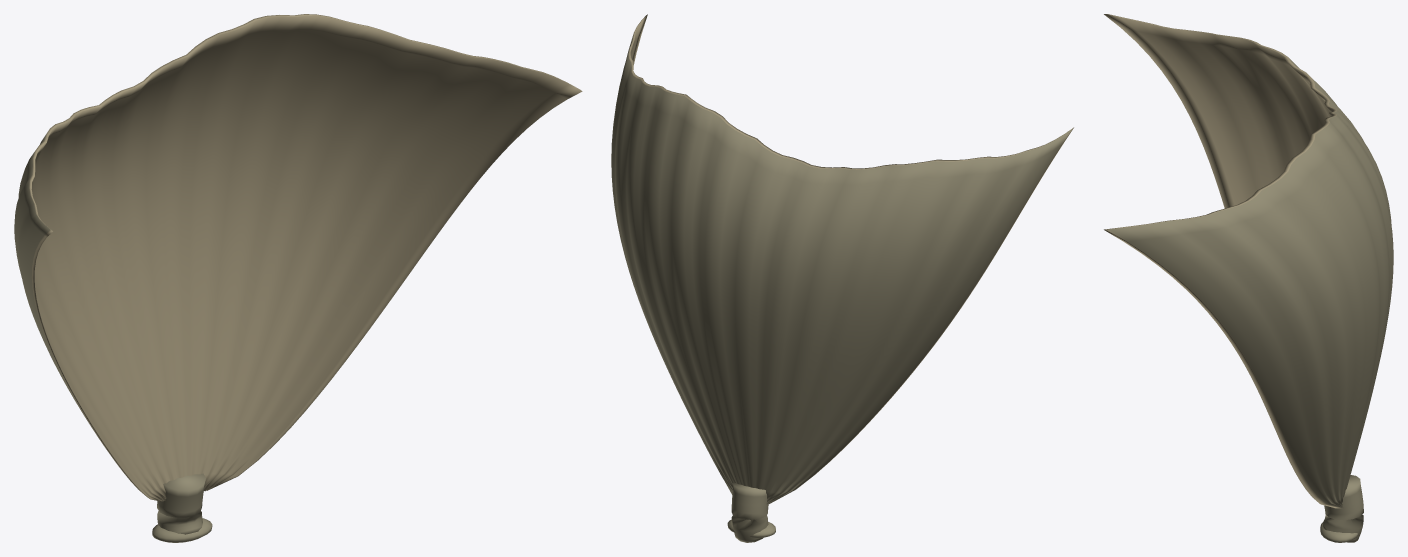
File: hazelia.glb
3 renders of one model, left to right at view 1: azimuth 30°, elevation 25°; view 2: azimuth 150°, elevation 25°; view 3: azimuth 270°, elevation 25°, orthographic. The views are drawn at different scales.
Visible parts, largest first — view 1: thin-cupped-shield-inner-outer-wall, small-organic-attachment-base; view 2: thin-cupped-shield-inner-outer-wall, small-organic-attachment-base; view 3: thin-cupped-shield-inner-outer-wall, small-organic-attachment-base.
Boxes of the visible parts, x1=… form: thin-cupped-shield-inner-outer-wall: x1=14, y1=14, x2=582, y2=501; small-organic-attachment-base: x1=152, y1=473, x2=212, y2=542; thin-cupped-shield-inner-outer-wall: x1=611, y1=14, x2=1073, y2=504; small-organic-attachment-base: x1=727, y1=482, x2=775, y2=542; thin-cupped-shield-inner-outer-wall: x1=1104, y1=14, x2=1393, y2=508; small-organic-attachment-base: x1=1320, y1=475, x2=1363, y2=542.
Bounding box in the file's own units: 0.13 × 0.1201 × 0.0709.
